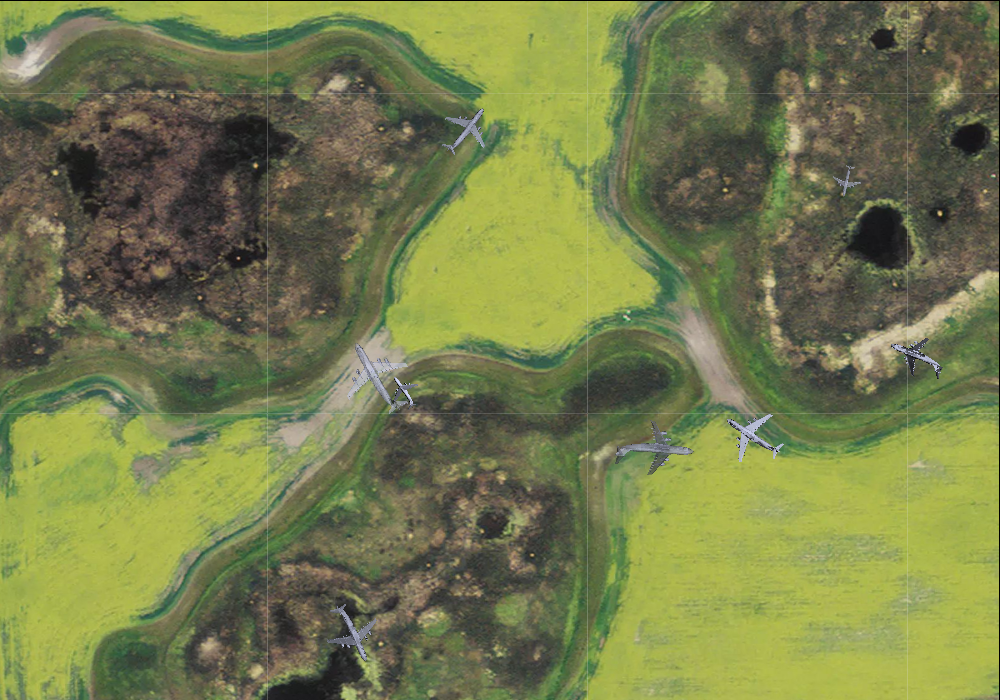plane: (324, 323, 429, 430), (710, 393, 796, 478), (311, 593, 391, 674), (611, 414, 696, 490), (427, 91, 503, 167), (880, 324, 953, 392), (379, 368, 427, 416), (829, 162, 865, 199)
